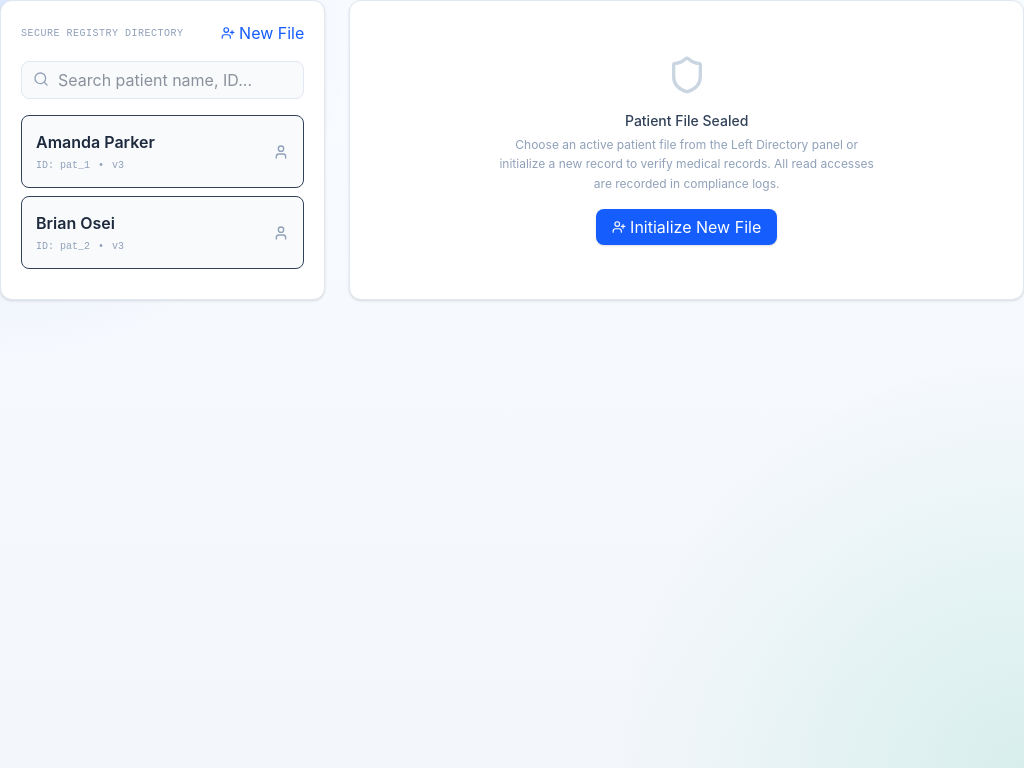
PatientWorkspace directory › filters the directory by name and by record id
Type "brian" into the field with placeholder "Search patient name, ID...".
click(163, 80); type("brian")  # box [21,61,304,99]
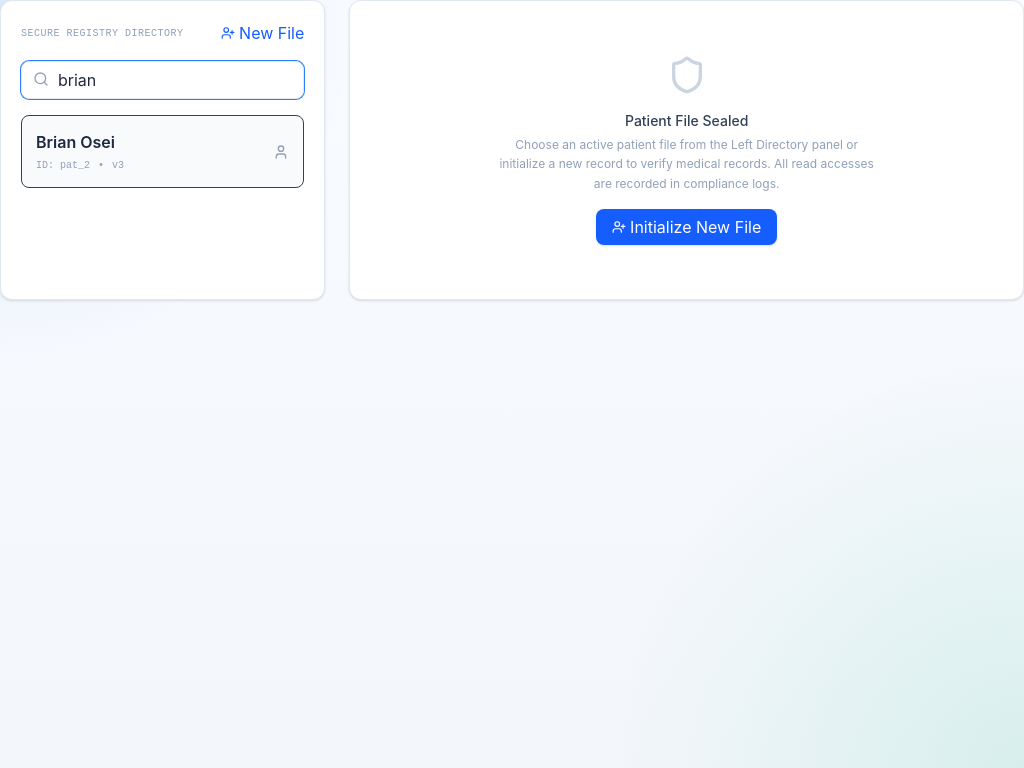
Expected: the text "Brian Osei" is shown, [36,130,124,154]
Expected: the button "Amanda Parker" is gone
Replace the text in the field with placeholder "Search patient name, ID..." with "pat_1" at coordinates (163, 80), box [21,61,304,99]
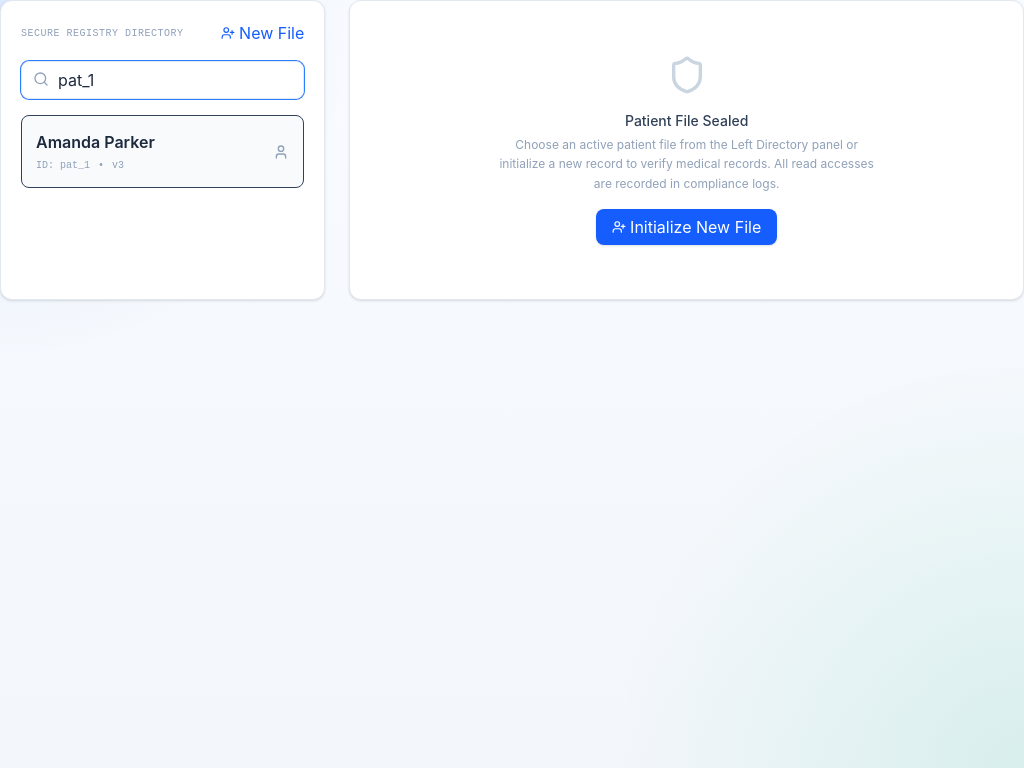
Expected: the button "Brian Osei" is not shown
Expected: the text "Amanda Parker" is shown, [36,130,155,154]
Replace the text in the field with placeholder "Search patient name, ID..." with "nobody" at coordinates (163, 80), box [21,61,304,99]
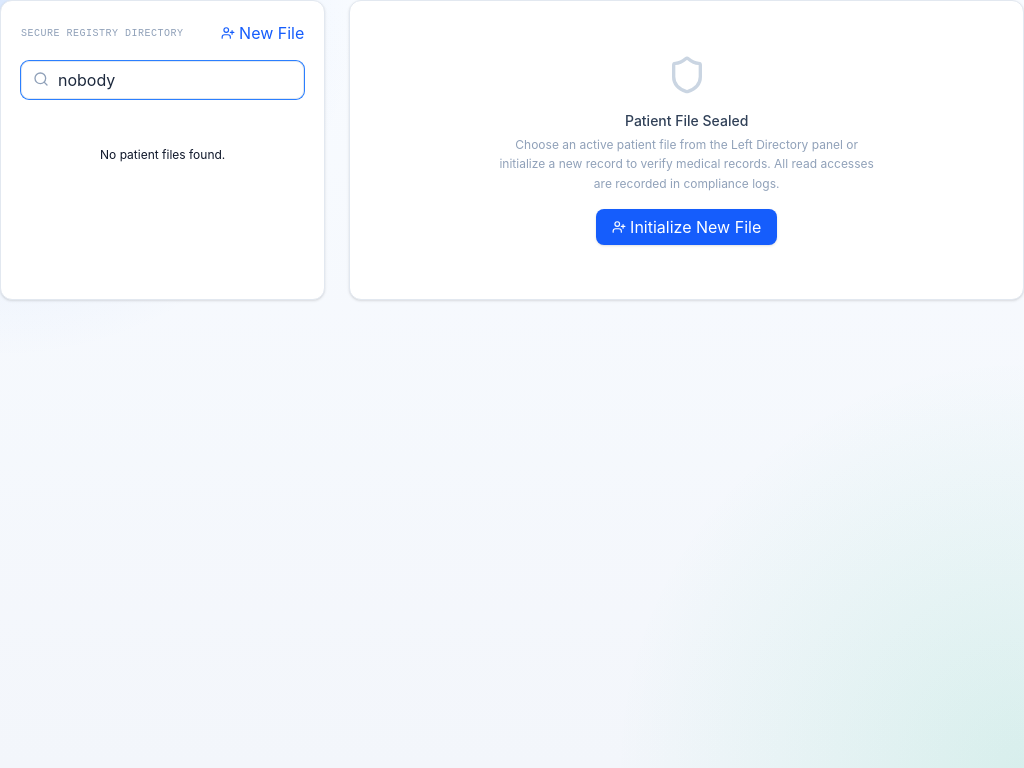
Expected: the text "No patient files found." is shown, [100,147,225,162]
